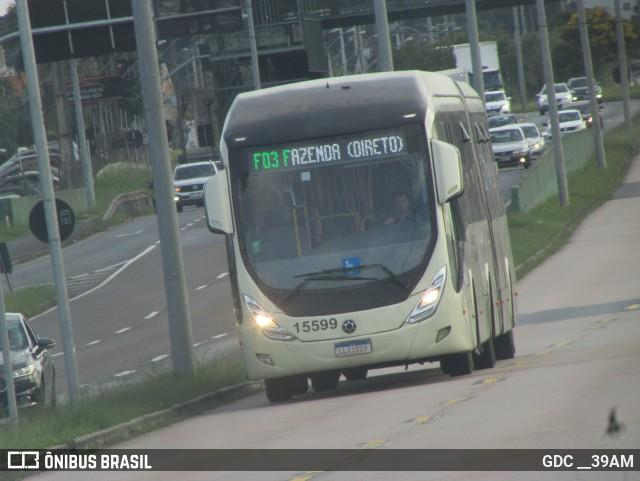FAZENDA: (279, 140, 345, 169)
